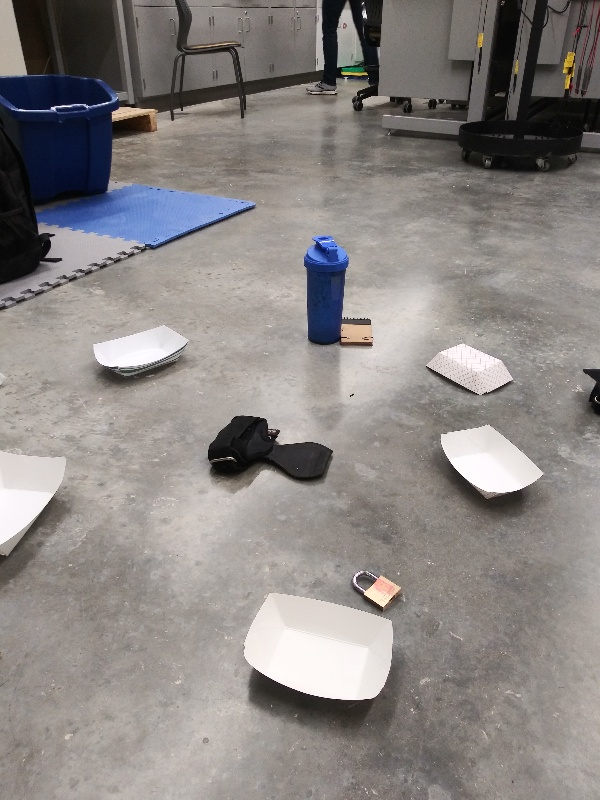plate: (238, 587, 397, 709), (431, 419, 549, 501), (1, 446, 71, 562), (90, 322, 190, 387), (424, 341, 518, 400)
